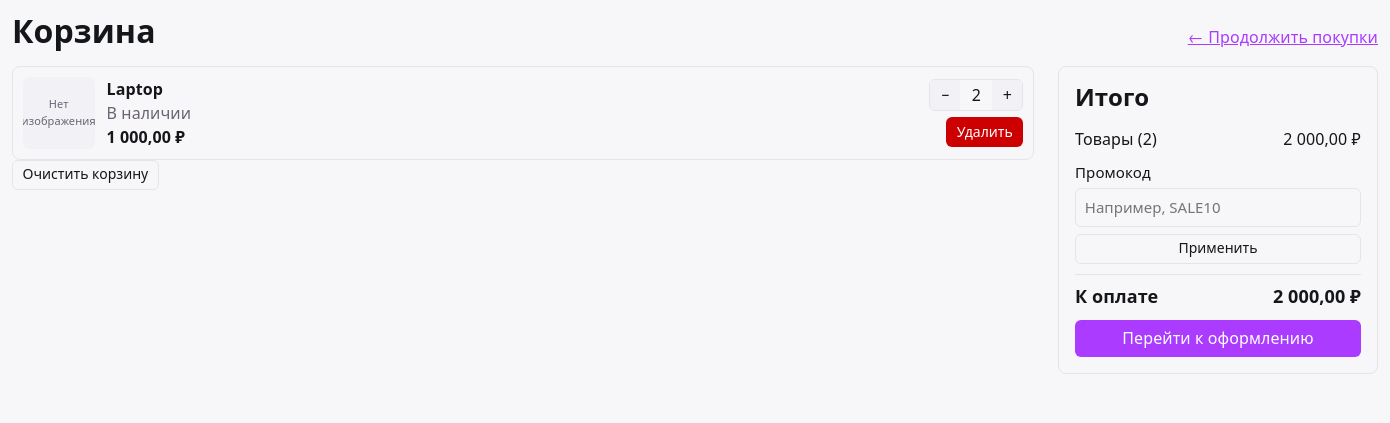
CartPage › промокод: ошибка применения показывается
The image size is (1390, 423).
Type "BAD" into the field labelled "Промокод" at [1218, 208], box 1075,188 -> 1361,227
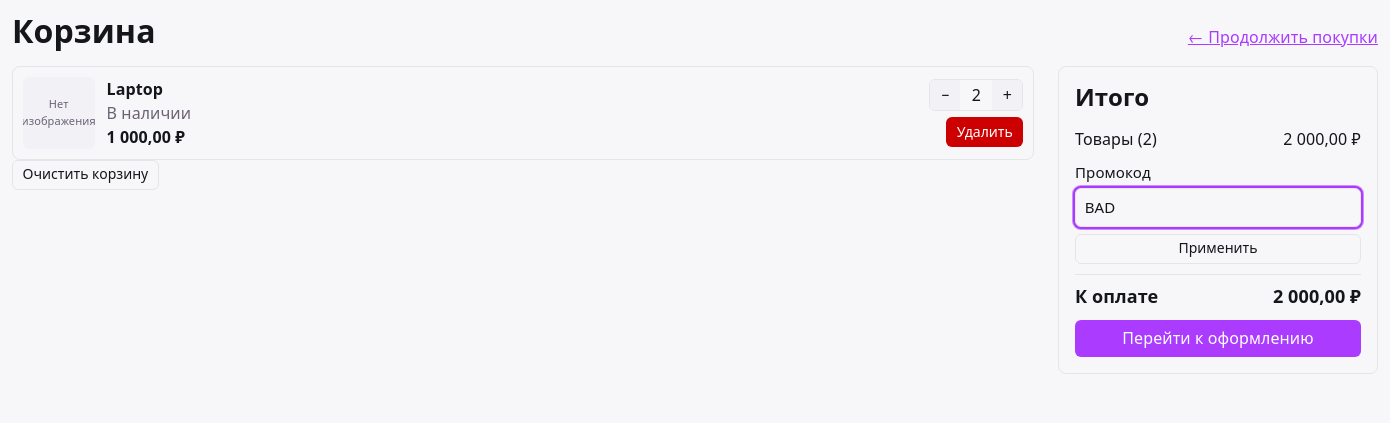
Click the button "Применить" at [1218, 248], box 1075,234 -> 1361,264
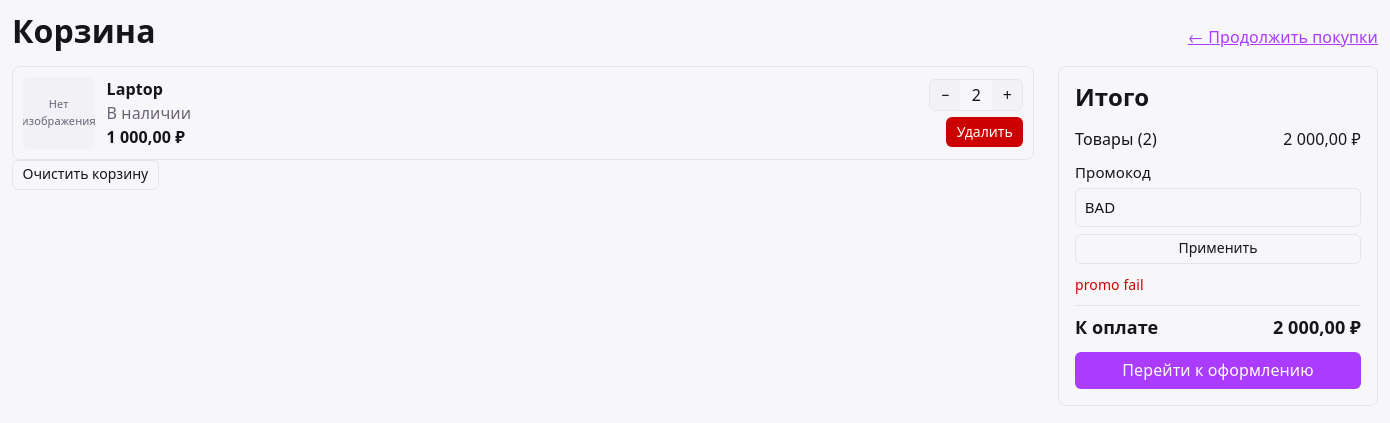
Check: the text "promo fail" is shown, box 1075,275 -> 1144,294
